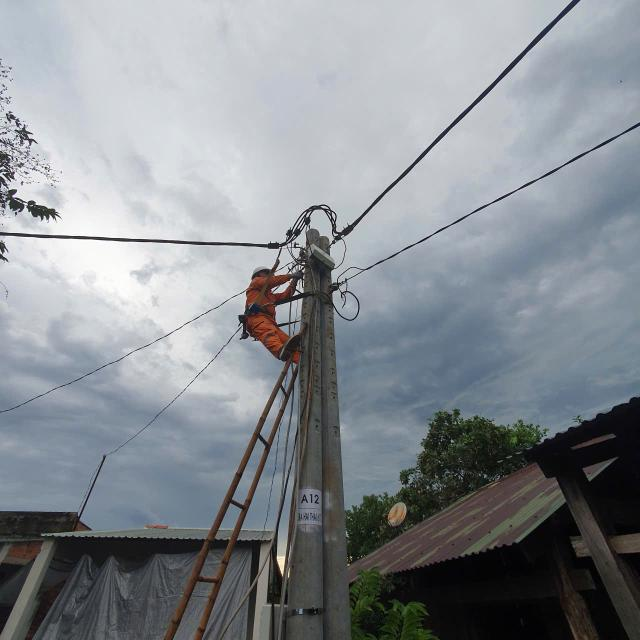gloves: (284, 268, 309, 279)
harness: (237, 302, 286, 323)
helmet: (245, 258, 277, 277)
shoes: (277, 328, 305, 364)
